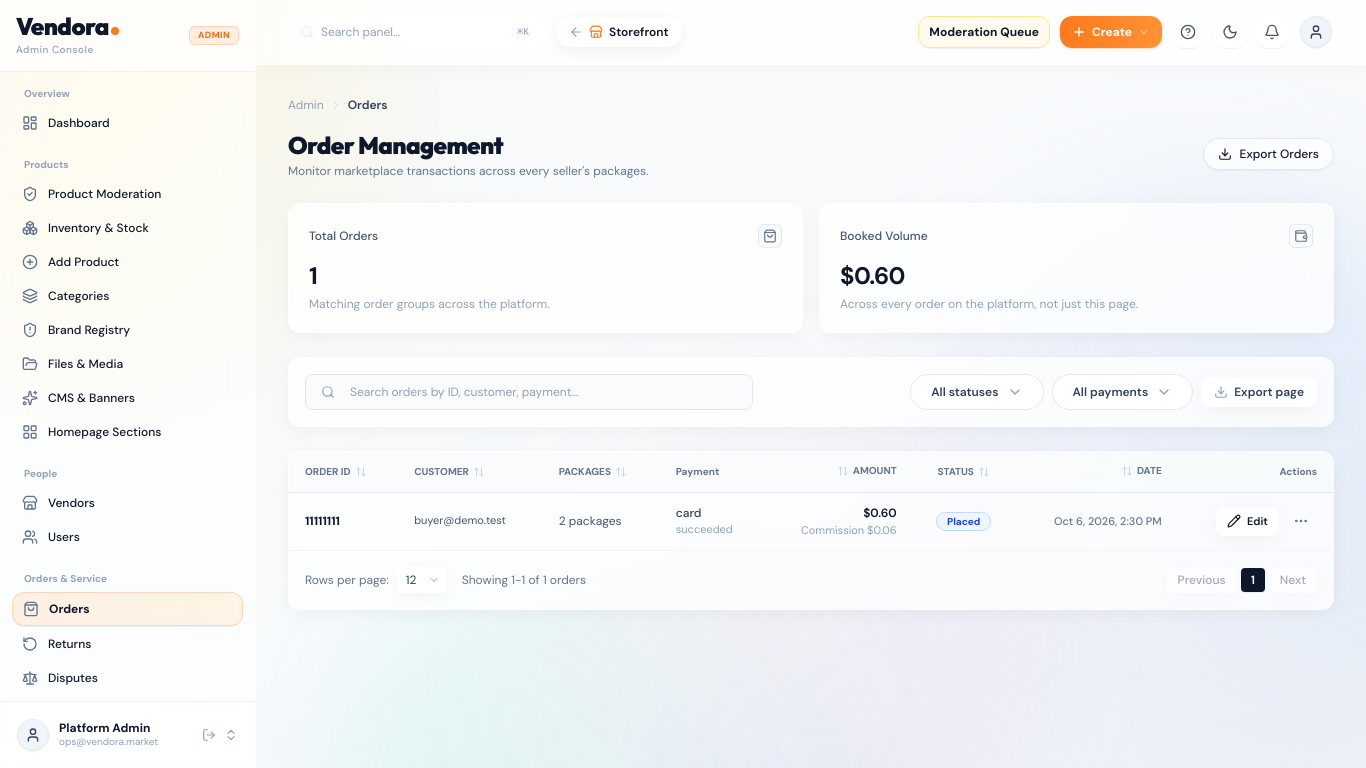
AdminOrdersPage row actions › opens a menu with view, refund, advance and rider actions for the row
Click the button named "actions for order" at (1301, 521), box 1285,505 -> 1317,537
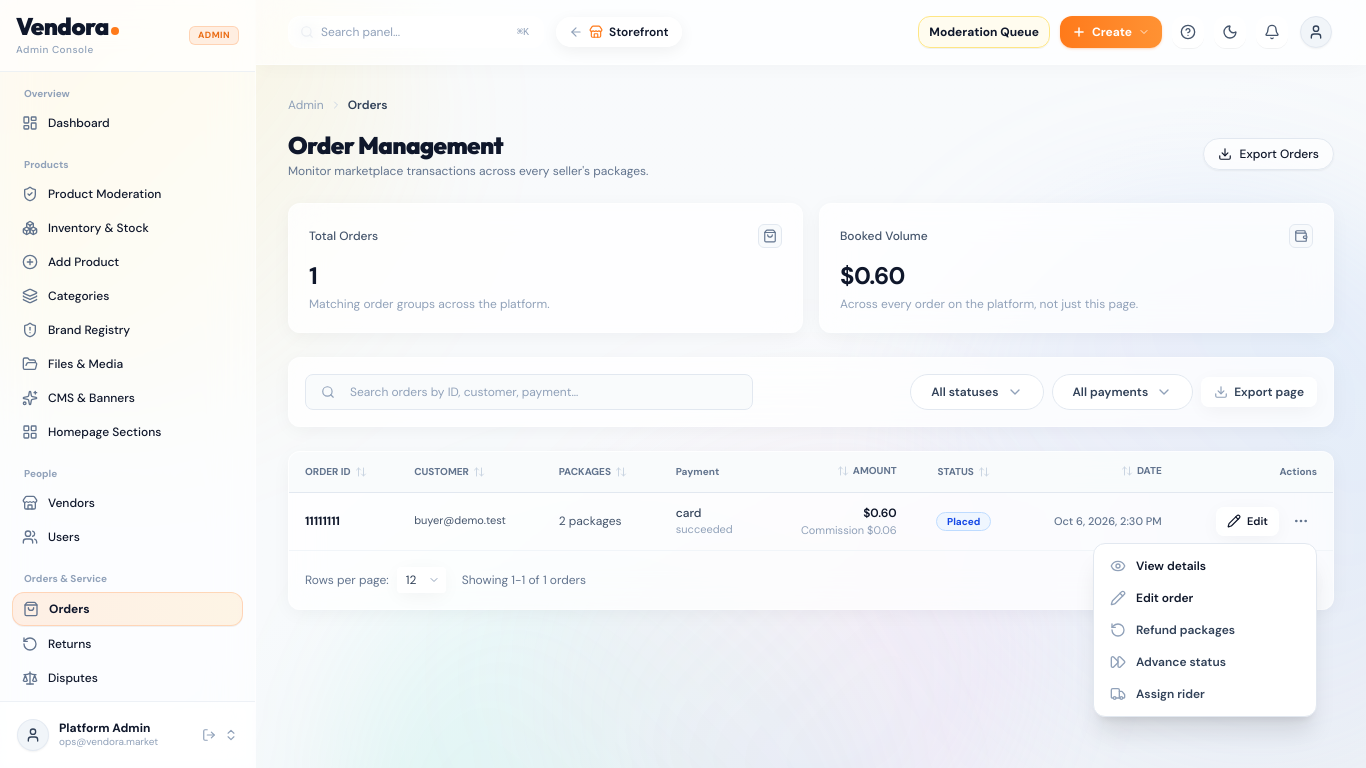
Expected: the menu item "Refund packages" is shown, 1100,614 -> 1310,646
Expected: the menu item "Advance status" is shown, 1100,646 -> 1310,678
Expected: the menu item "Assign rider" is shown, 1100,678 -> 1310,710
